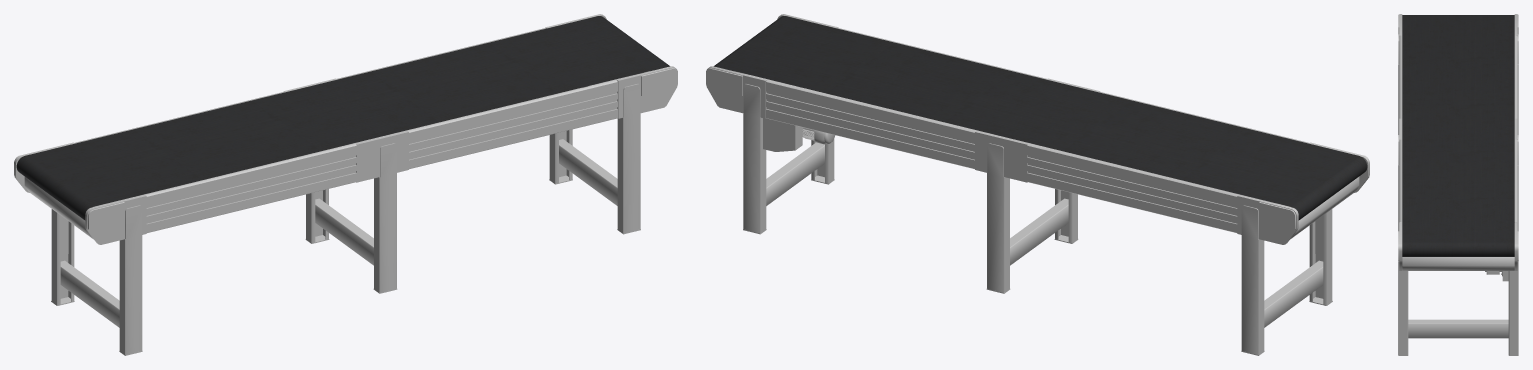
File: BeltConveyor4M.FBX
3 renders of one model, left to right at view 1: azimuth 30°, elevation 25°; view 2: azimuth 150°, elevation 25°; view 3: azimuth 270°, elevation 25°, orthographic. The views are drawn at different scales.
Visible parts, largest first — view 1: BeltConveyor4M, BeltConveyor_Belt; view 2: BeltConveyor4M, BeltConveyor_Belt; view 3: BeltConveyor_Belt, BeltConveyor4M.
Part boxes in pixels (x1=…): BeltConveyor4M: x1=14, y1=14, x2=677, y2=355; BeltConveyor_Belt: x1=16, y1=16, x2=669, y2=220; BeltConveyor4M: x1=706, y1=14, x2=1369, y2=355; BeltConveyor_Belt: x1=714, y1=16, x2=1367, y2=220; BeltConveyor_Belt: x1=1402, y1=15, x2=1514, y2=256; BeltConveyor4M: x1=1398, y1=14, x2=1518, y2=355.
Size of the model in its own units: 3.99 by 0.9975 by 0.8703.
